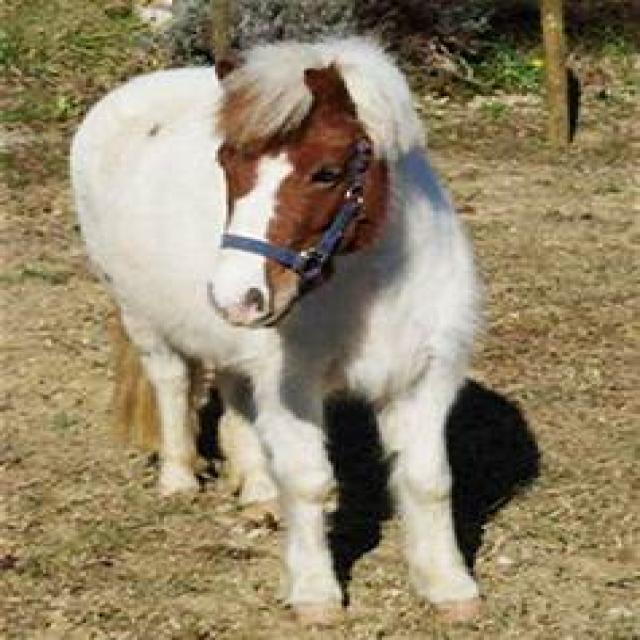horse: (71, 36, 479, 614)
